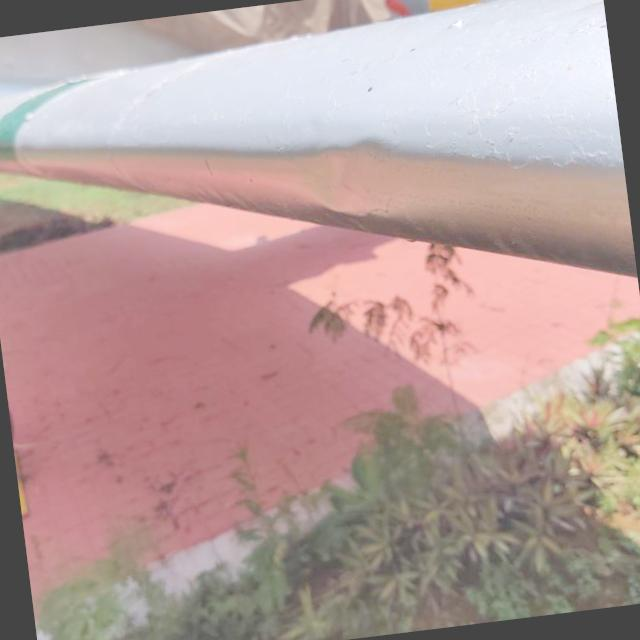dent: (288, 109, 416, 248)
